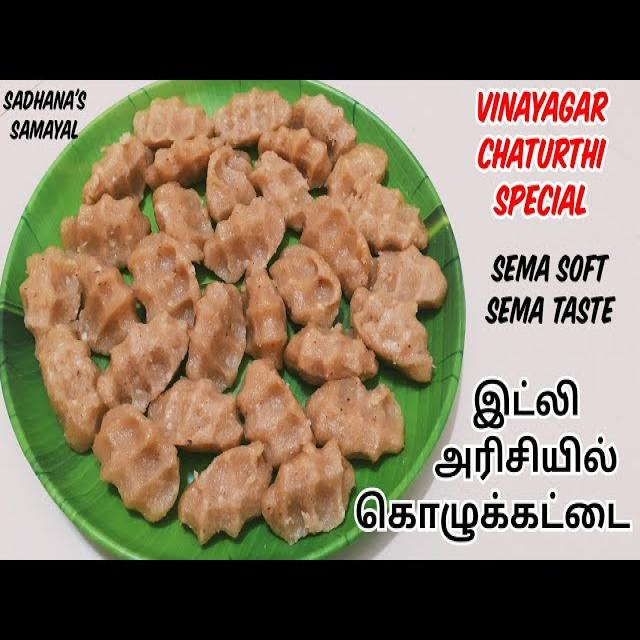pidi kolukattai: (177, 441, 274, 545), (30, 323, 107, 454), (93, 404, 179, 521), (261, 439, 355, 543), (98, 312, 191, 413), (235, 359, 316, 469), (349, 284, 436, 386), (305, 374, 404, 462), (295, 199, 373, 301), (148, 376, 245, 455), (202, 196, 287, 285), (126, 232, 202, 325), (184, 281, 248, 390), (70, 254, 139, 354), (267, 243, 344, 330), (345, 180, 432, 257), (68, 192, 150, 271), (285, 322, 379, 388), (19, 246, 84, 338), (363, 245, 448, 314), (247, 147, 315, 226), (149, 181, 216, 261), (240, 265, 290, 371), (81, 134, 151, 206), (289, 91, 359, 163), (212, 87, 294, 147), (133, 95, 214, 150), (204, 145, 259, 223), (144, 134, 220, 190), (324, 142, 388, 203)
